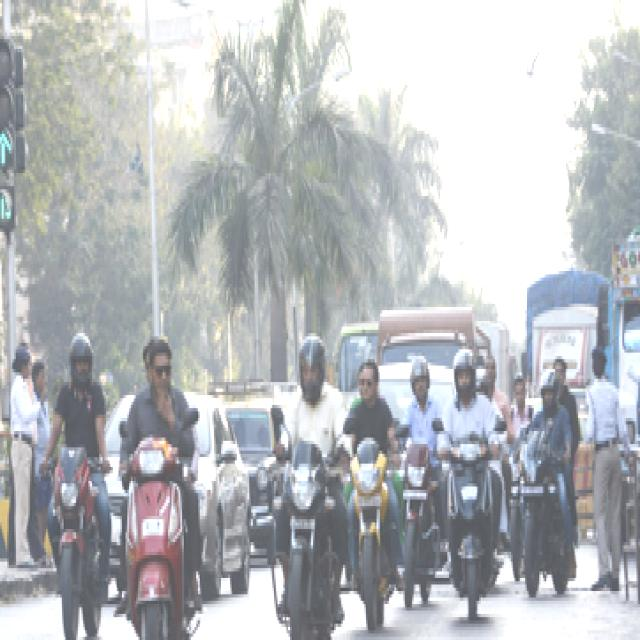With Helmet: (64, 326, 99, 398), (295, 333, 329, 402), (403, 343, 437, 408), (449, 349, 481, 405), (537, 366, 564, 414)
Without Helmet: (145, 330, 177, 408), (355, 359, 382, 405), (510, 366, 530, 408)
